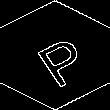P_NW: (22, 24, 88, 86)
